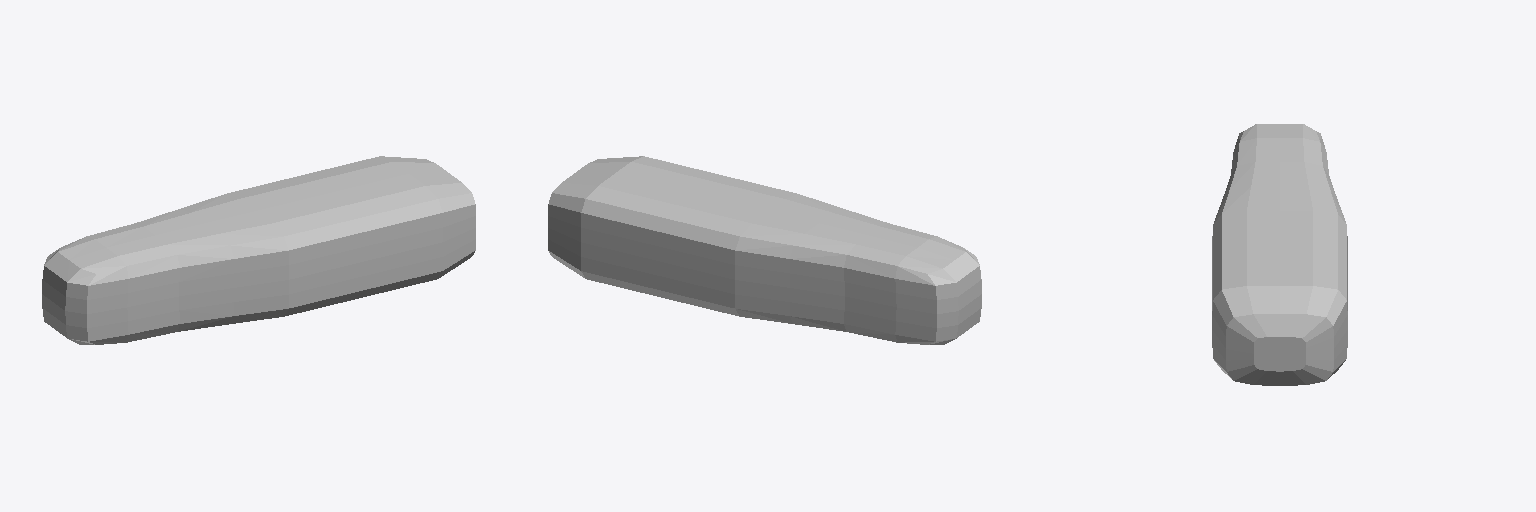
Rendered from chest.obj.
The picture shows the model from 3 angles: view 1: azimuth 30°, elevation 25°; view 2: azimuth 150°, elevation 25°; view 3: azimuth 270°, elevation 25°; orthographic projection.
Visible parts, largest first — view 1: Cube.001; view 2: Cube.001; view 3: Cube.001.
Part boxes in pixels (x1,y1,x2,y2): Cube.001: (42,156,475,344); Cube.001: (548,156,981,344); Cube.001: (1212,124,1347,385).
Size of the model in its own units: 0.9953 by 0.2128 by 0.2887.